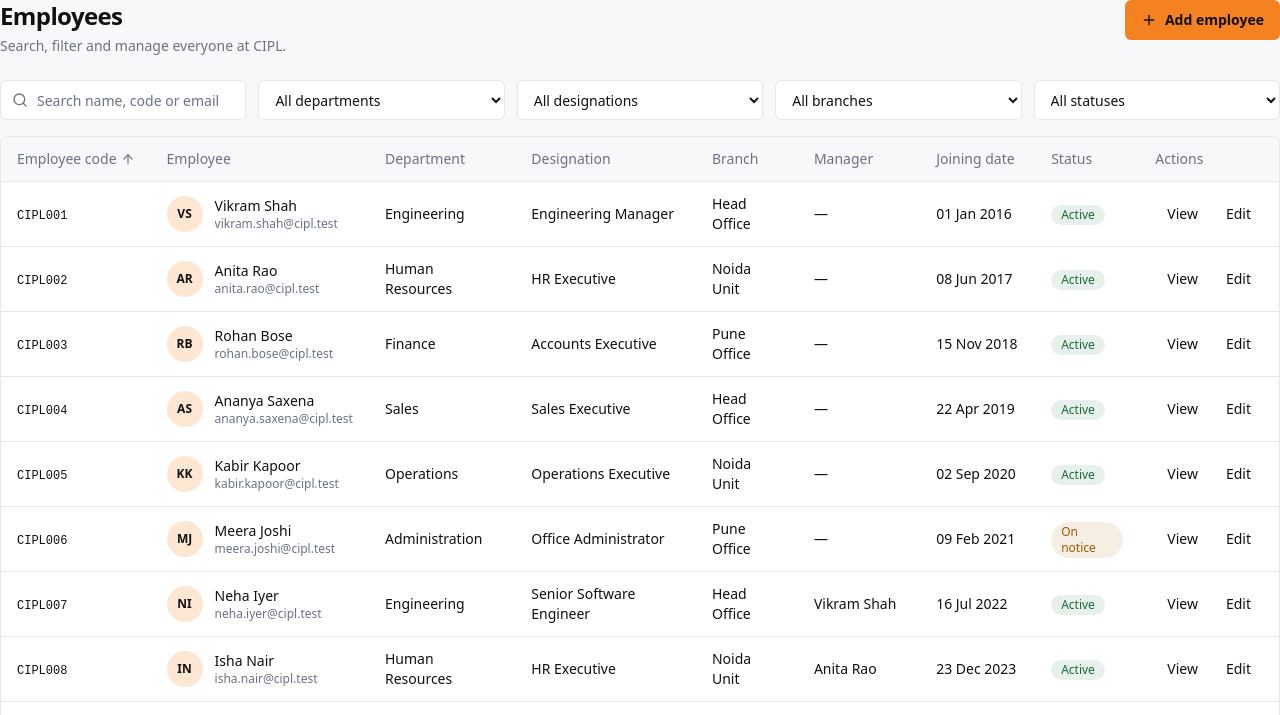
Test: EmployeesPage › shows an empty state when nothing matches
Type "zzzzzz" into the search field named "Search employees" at (123, 100), box [0, 80, 246, 120]
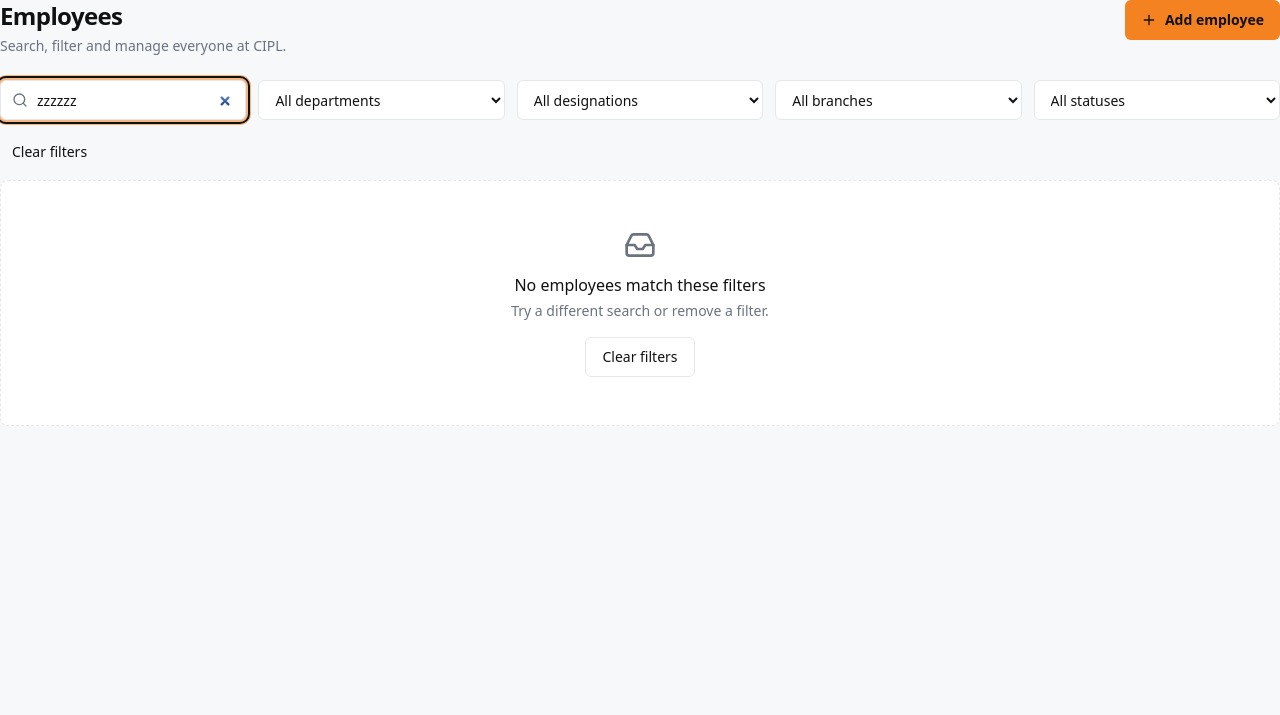
Result: the text "No employees match these filters" is shown at [514, 273, 766, 297]
